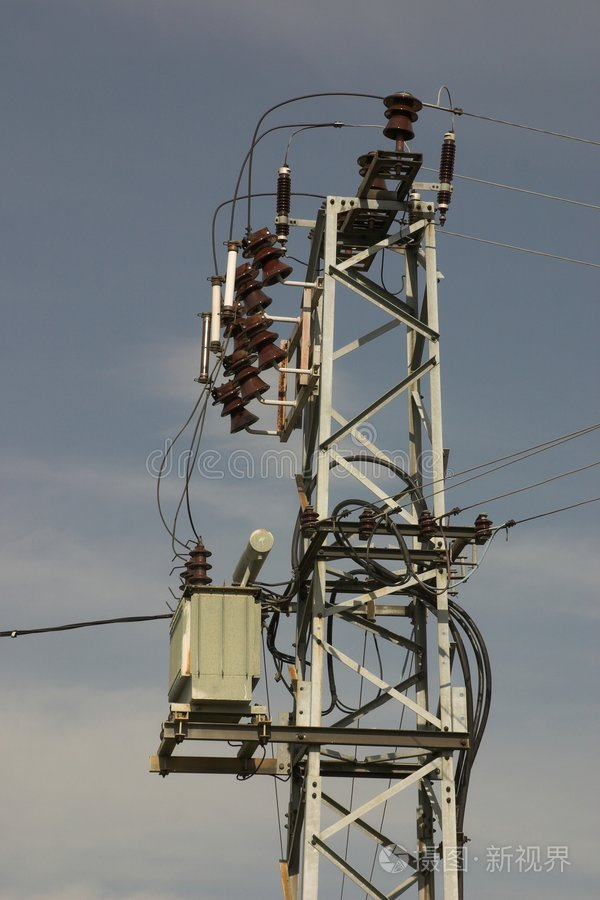insulator: (246, 228, 293, 286), (242, 314, 289, 368), (380, 91, 427, 141), (211, 382, 257, 432), (222, 352, 270, 396), (229, 268, 267, 310)
